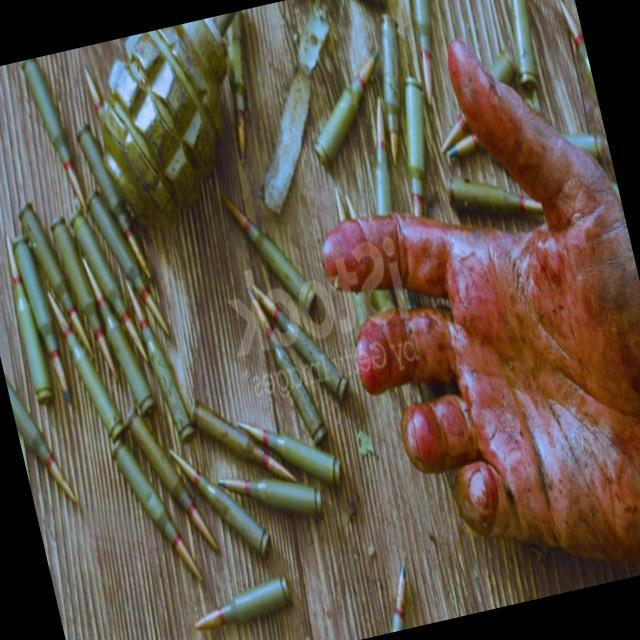grenade: (76, 21, 258, 242)
